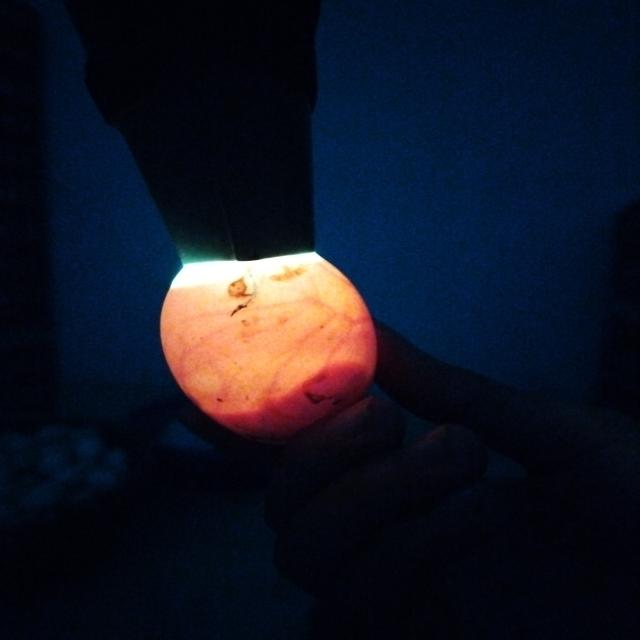Embriao: (208, 367, 376, 440)
